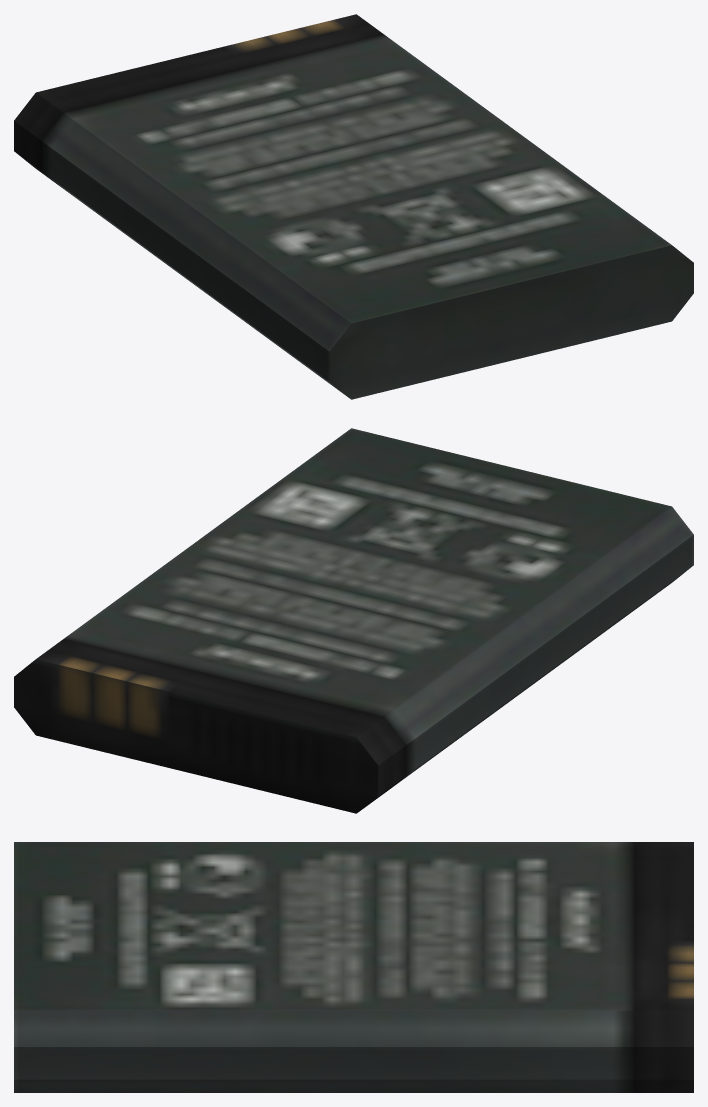
Rendered from cell_phone_battery_1.fbx.
3 views of the same model, one above another, from view 1: azimuth 30°, elevation 25°; view 2: azimuth 150°, elevation 25°; view 3: azimuth 270°, elevation 25° (orthographic). The views are drawn at different scales.
Visible parts, largest first — view 1: cell_phone_battery_1; view 2: cell_phone_battery_1; view 3: cell_phone_battery_1.
Part boxes in pixels (x1,y1,x2,y2): cell_phone_battery_1: (14,14,693,399); cell_phone_battery_1: (14,428,693,813); cell_phone_battery_1: (14,842,693,1092).
Size of the model in its own units: 0.06 by 0.012 by 0.09.
